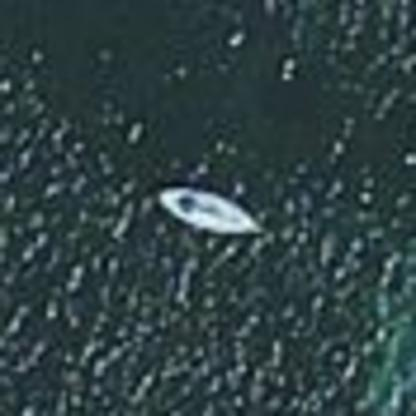ship: (144, 176, 276, 247)
